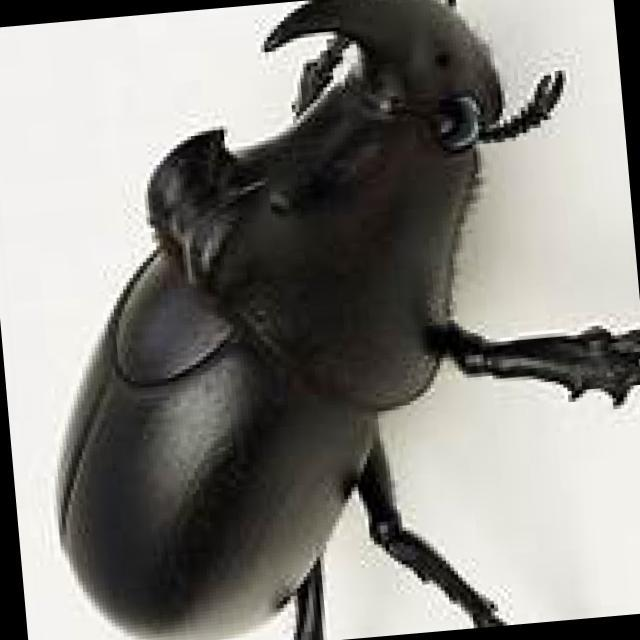Rhino-beetle: (49, 0, 558, 640)
